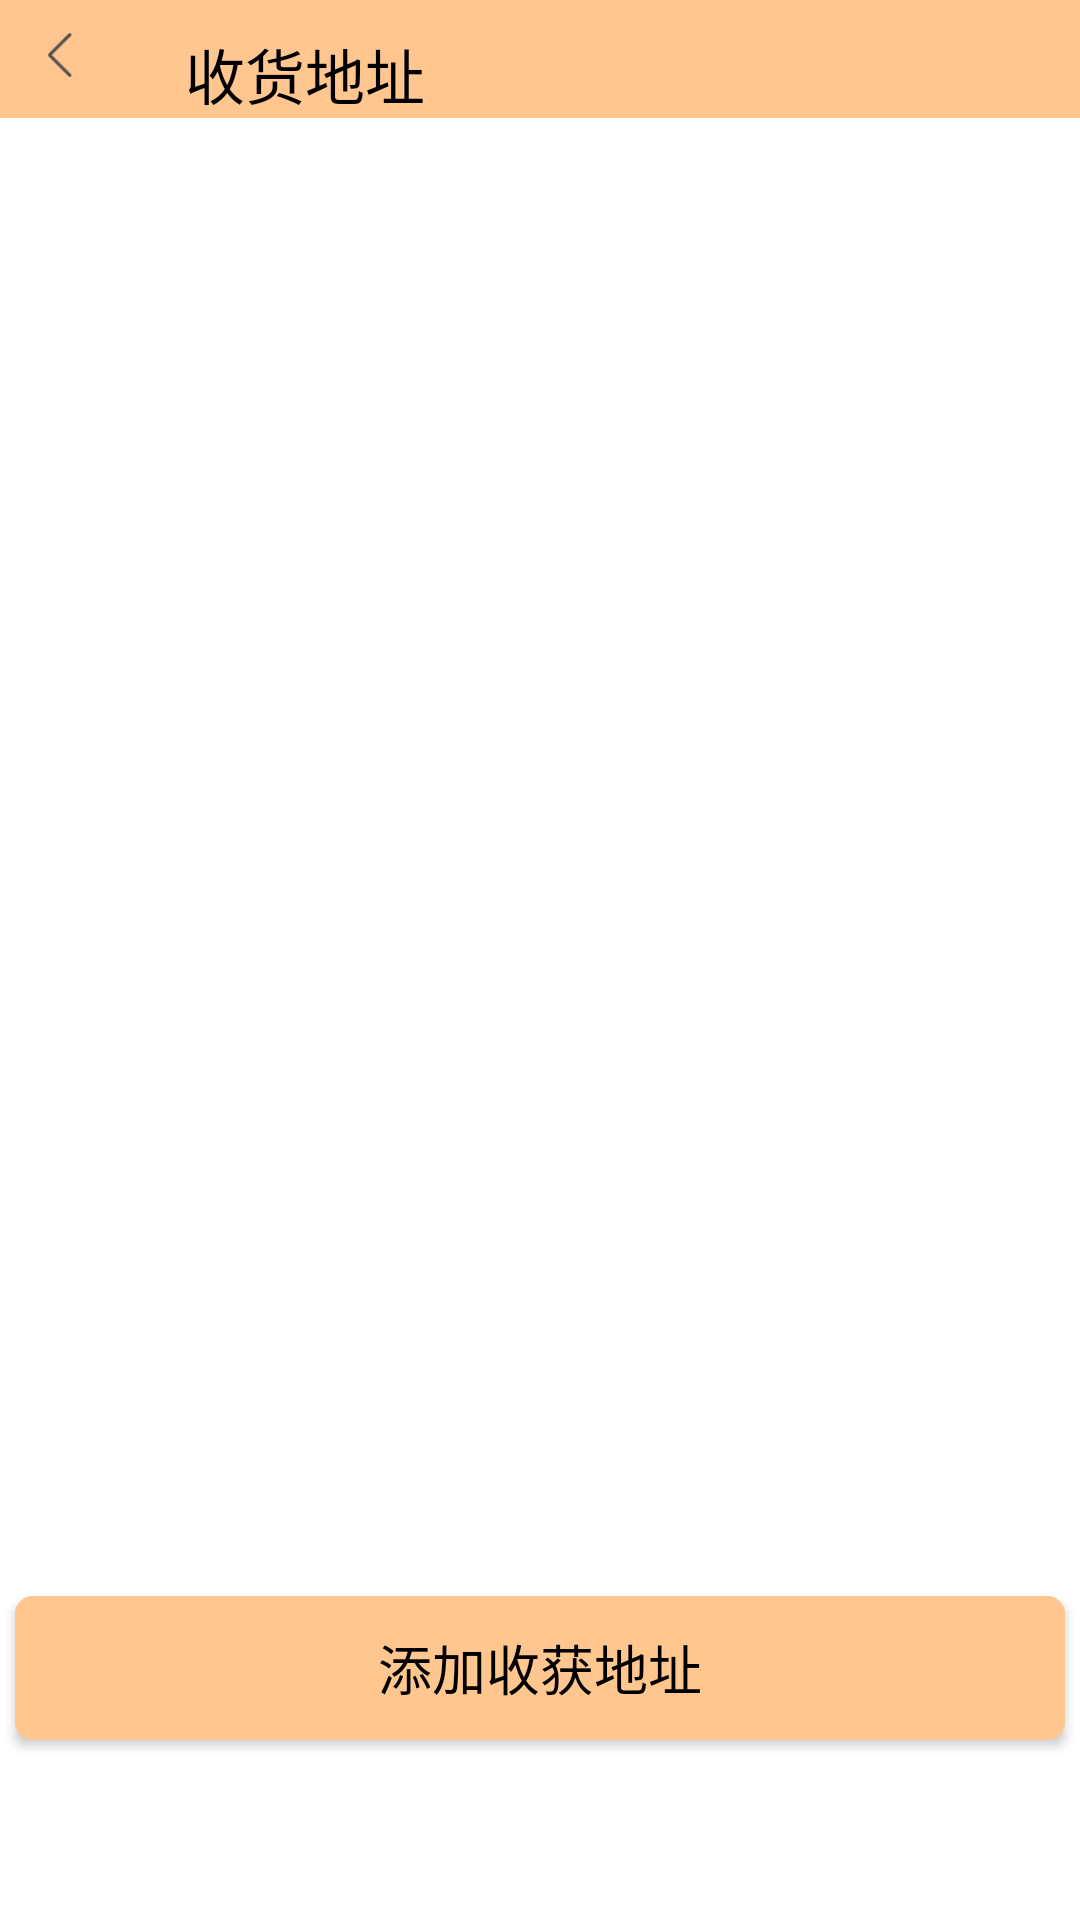

Named icons in this screenshot (1080*1920) and their bounding boxes, (x1, y1, x2, y2):
fanhui: (48, 33, 72, 77)
